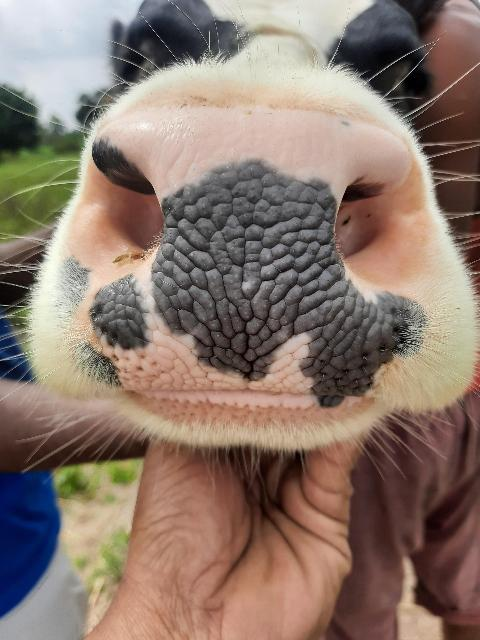Muzzle: (100, 114, 420, 412)
